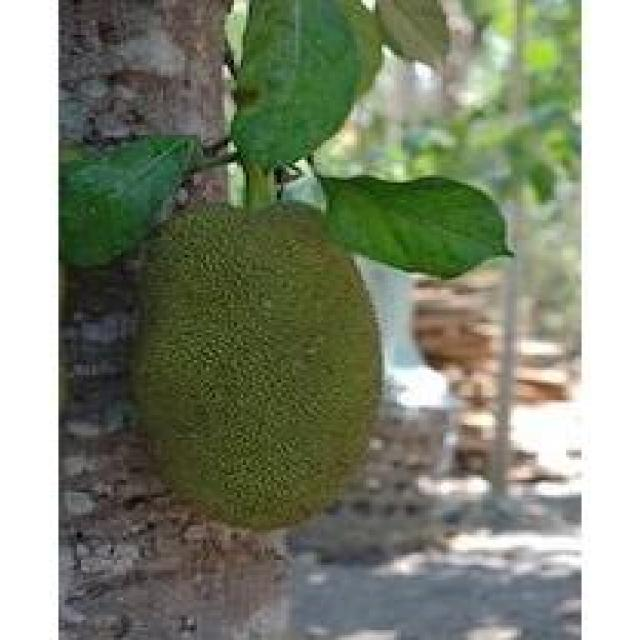Fruit: (114, 198, 406, 550)
